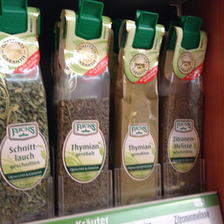spices: (1, 4, 55, 223), (57, 9, 111, 215), (116, 18, 164, 206), (162, 26, 208, 196)
